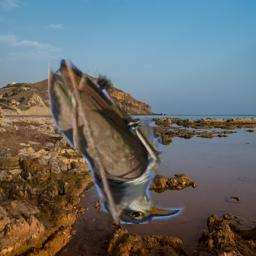Cuckoo: (48, 59, 212, 224)
